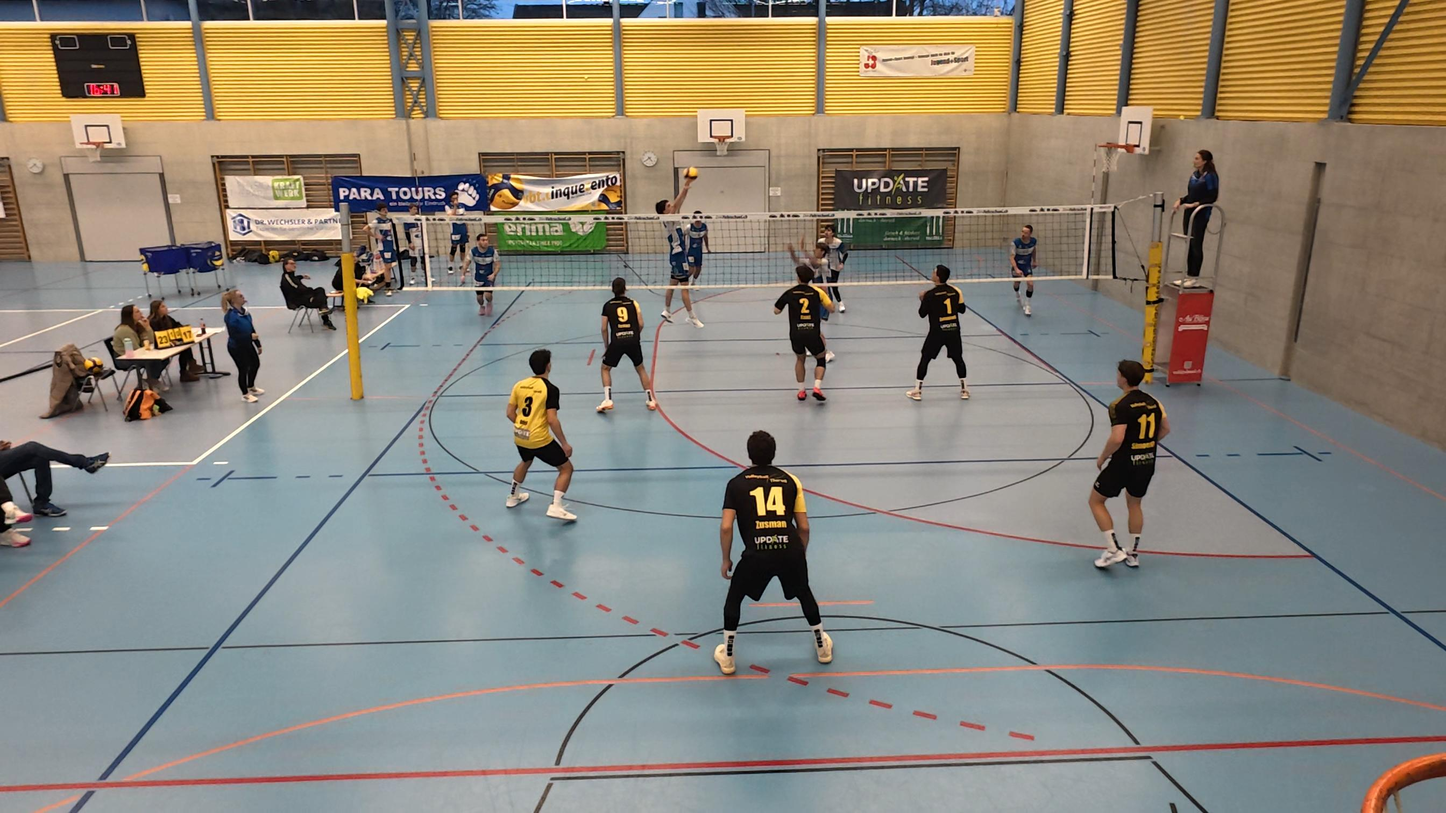alzata: (654, 168, 705, 329)
